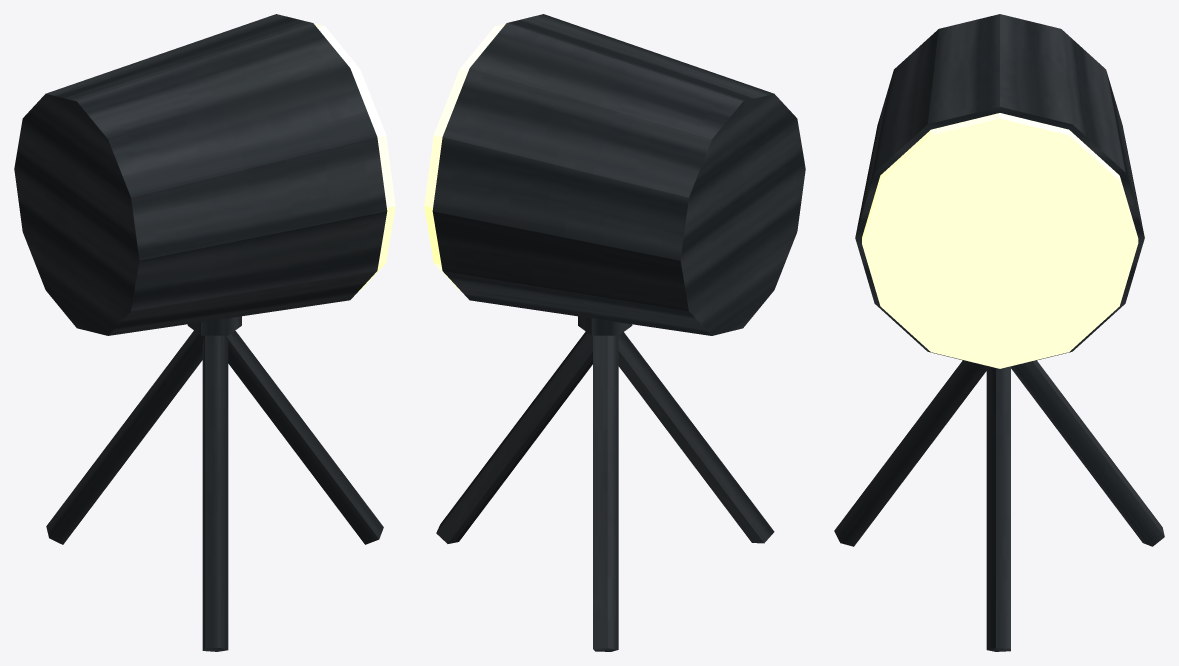
Rendered from searchlight_01.glb.
3 views of the same model, side by side, from view 1: azimuth 30°, elevation 25°; view 2: azimuth 150°, elevation 25°; view 3: azimuth 270°, elevation 25° (orthographic). The views are drawn at different scales.
Visible parts, largest first — view 1: searchlight_01; view 2: searchlight_01; view 3: searchlight_01.
Boxes of the visible parts, box(x1,y1,x2,y2) form: searchlight_01: box(14, 14, 395, 651); searchlight_01: box(424, 14, 805, 651); searchlight_01: box(834, 14, 1164, 651).
Bounding box in the file's own units: 0.1547 × 0.2583 × 0.1485.
2 materials, 1 textured.
